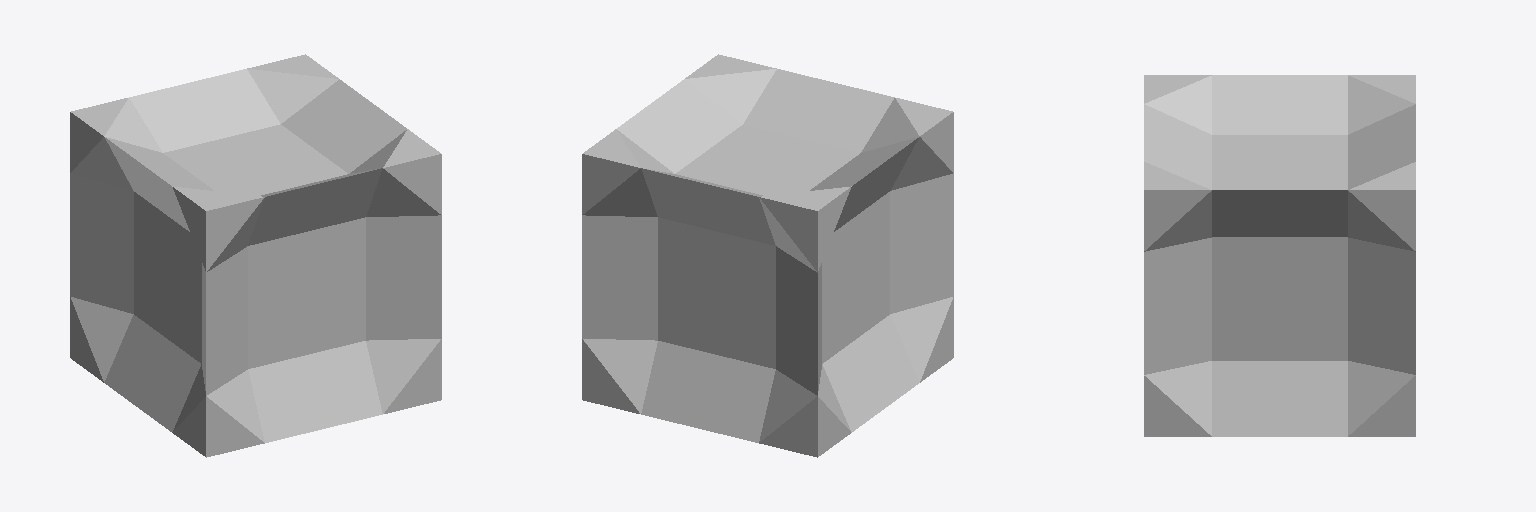
The model's file is tris.obj.
3 renders of one model, left to right at view 1: azimuth 30°, elevation 25°; view 2: azimuth 150°, elevation 25°; view 3: azimuth 270°, elevation 25°, orthographic.
Parts seen in each view (by area): view 1: slot812; view 2: slot812; view 3: slot812.
Boxes of the visible parts, box(x1,y1,x2,y2) form: slot812: box(70, 54, 441, 457); slot812: box(582, 54, 953, 457); slot812: box(1144, 75, 1415, 436).
Bounding box in the file's own units: 32 × 32 × 32.